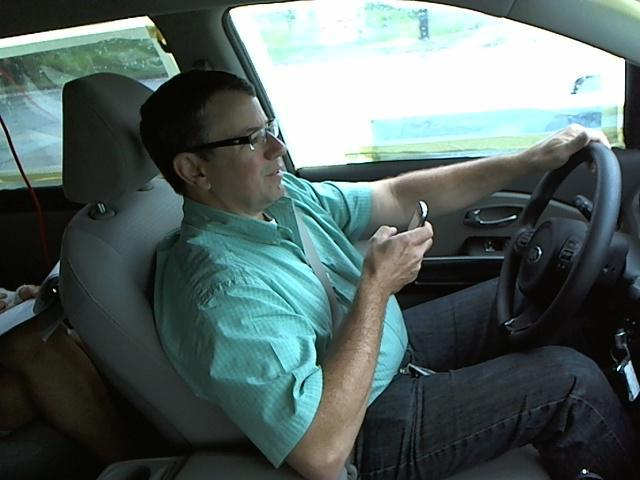PhoneUse: (399, 197, 430, 250)
